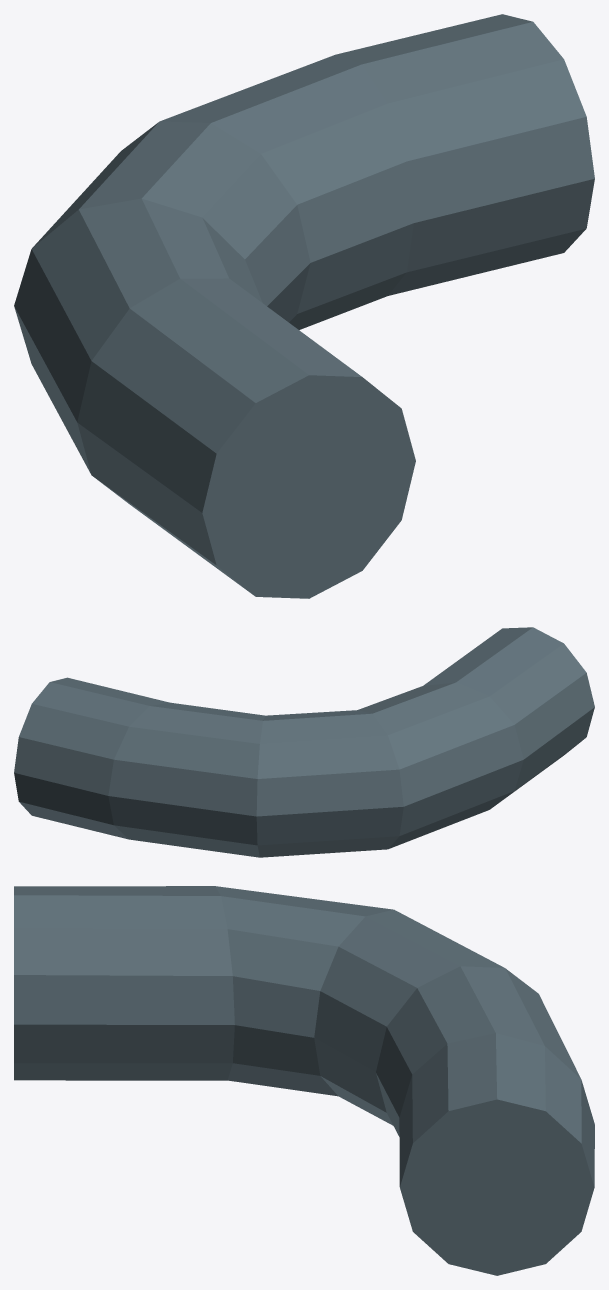
The model's file is SM_Factory_Small_pipe_Corner.glb.
3 views of the same model, one above another, from view 1: azimuth 30°, elevation 25°; view 2: azimuth 150°, elevation 25°; view 3: azimuth 270°, elevation 25° (orthographic). The views are drawn at different scales.
Visible parts, largest first — view 1: SM_Factory_Small_pipe_Corner; view 2: SM_Factory_Small_pipe_Corner; view 3: SM_Factory_Small_pipe_Corner.
Part boxes in pixels (box(x1,y1,x2,y2)): SM_Factory_Small_pipe_Corner: box(14, 14, 594, 598); SM_Factory_Small_pipe_Corner: box(14, 627, 594, 857); SM_Factory_Small_pipe_Corner: box(14, 886, 594, 1275).
Bounding box in the file's own units: 1.32 × 0.4437 × 1.32.
Materials: 1 (1 with a texture image).
